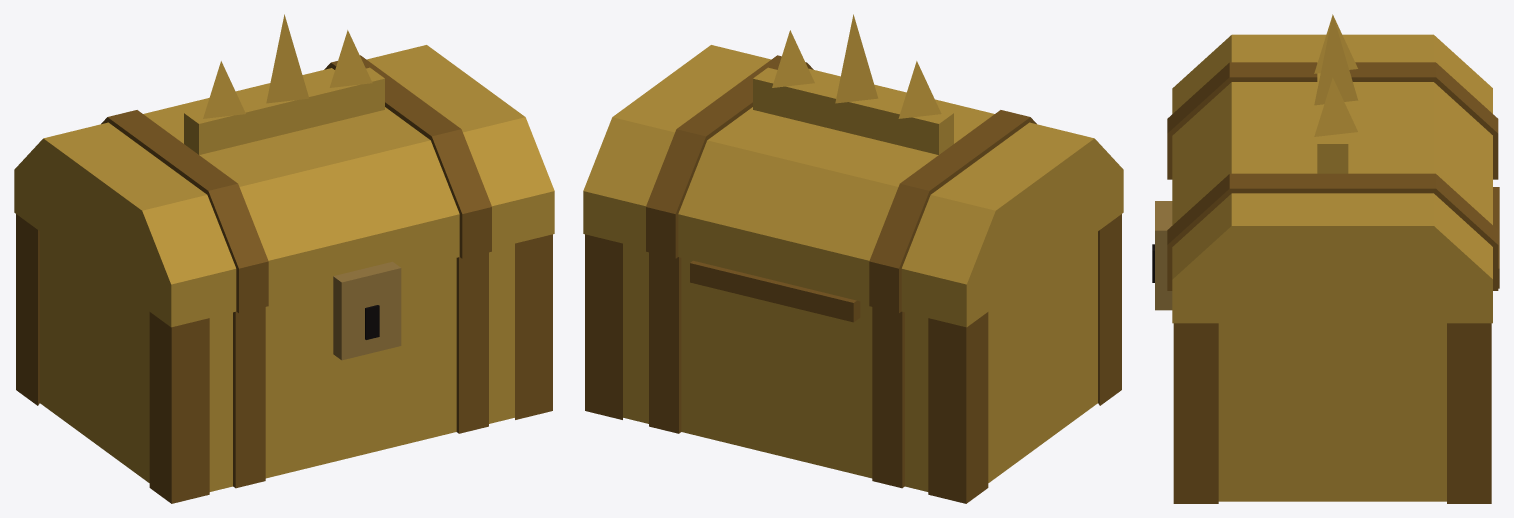
The model's file is chest_king.glb.
The picture shows the model from 3 angles, left to right: view 1: azimuth 30°, elevation 25°; view 2: azimuth 150°, elevation 25°; view 3: azimuth 270°, elevation 25°; orthographic projection. The views are drawn at different scales.
Parts seen in each view (by area): view 1: lid, base, lock; view 2: lid, base; view 3: lid, base, lock.
Part boxes in pixels (x1,y1,x2,y2): lid: (14,14,554,327); base: (16,214,552,503); lock: (333,261,401,360); lid: (583,14,1123,327); base: (585,214,1121,503); lid: (1167,14,1498,323); base: (1173,187,1499,503); lock: (1152,201,1172,310).
Bounding box in the file's own units: 1.03 × 0.992 × 0.791.
